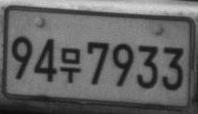3: (135, 44, 158, 89), (161, 46, 184, 90)
4: (33, 38, 57, 82)
7: (85, 41, 109, 84)
9: (111, 42, 134, 86), (10, 35, 32, 79)
무: (59, 46, 81, 83)
